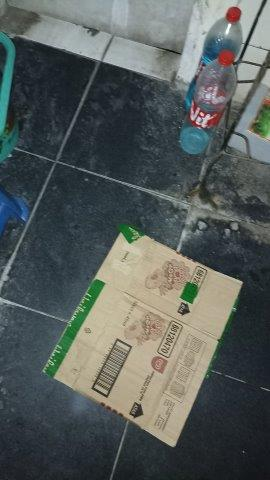kardus: (44, 227, 240, 445)
